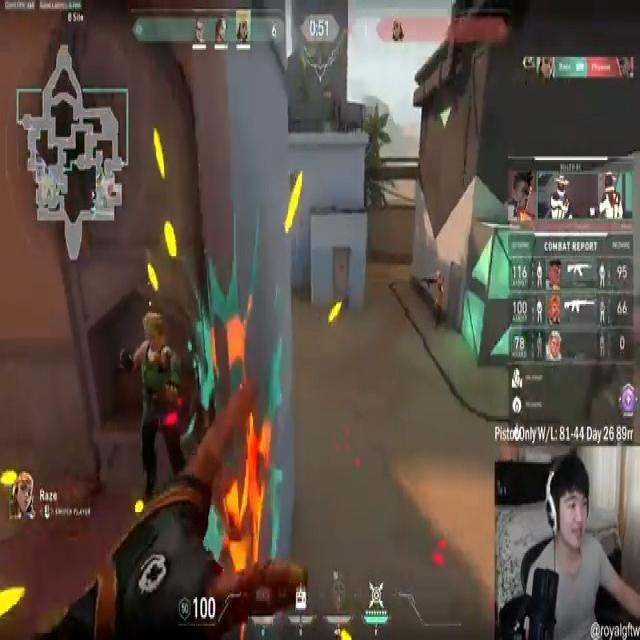ally: (124, 315, 190, 500)
enemy: (426, 270, 446, 334)
